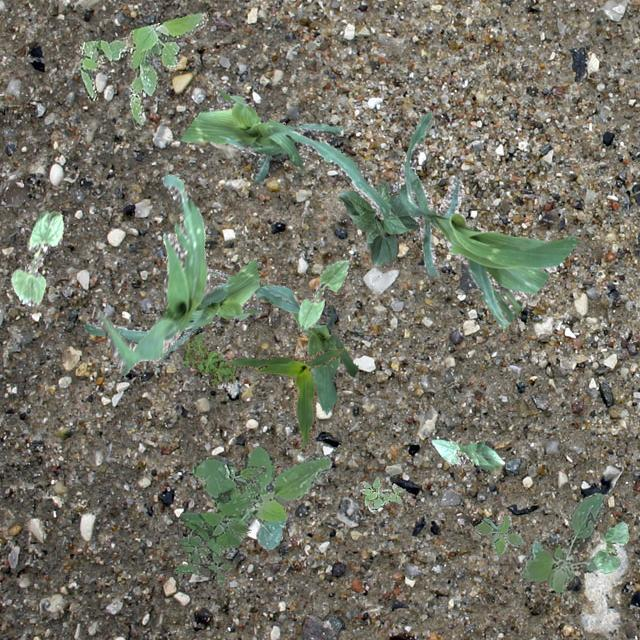crop: (398, 112, 578, 328), (180, 84, 390, 218), (96, 172, 227, 374), (208, 268, 356, 412), (84, 258, 260, 356), (225, 346, 342, 452), (336, 180, 418, 266), (10, 210, 62, 304), (298, 260, 350, 330), (426, 434, 504, 470), (592, 520, 628, 572)
weed: (192, 446, 331, 554), (77, 12, 206, 128), (173, 464, 264, 586), (518, 492, 604, 592), (180, 332, 234, 386), (474, 514, 522, 556), (360, 476, 402, 511)
